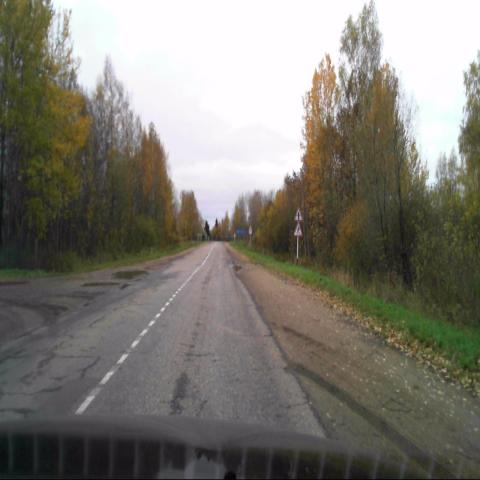1_22: (294, 222, 302, 236)
2_3: (294, 207, 303, 221)
